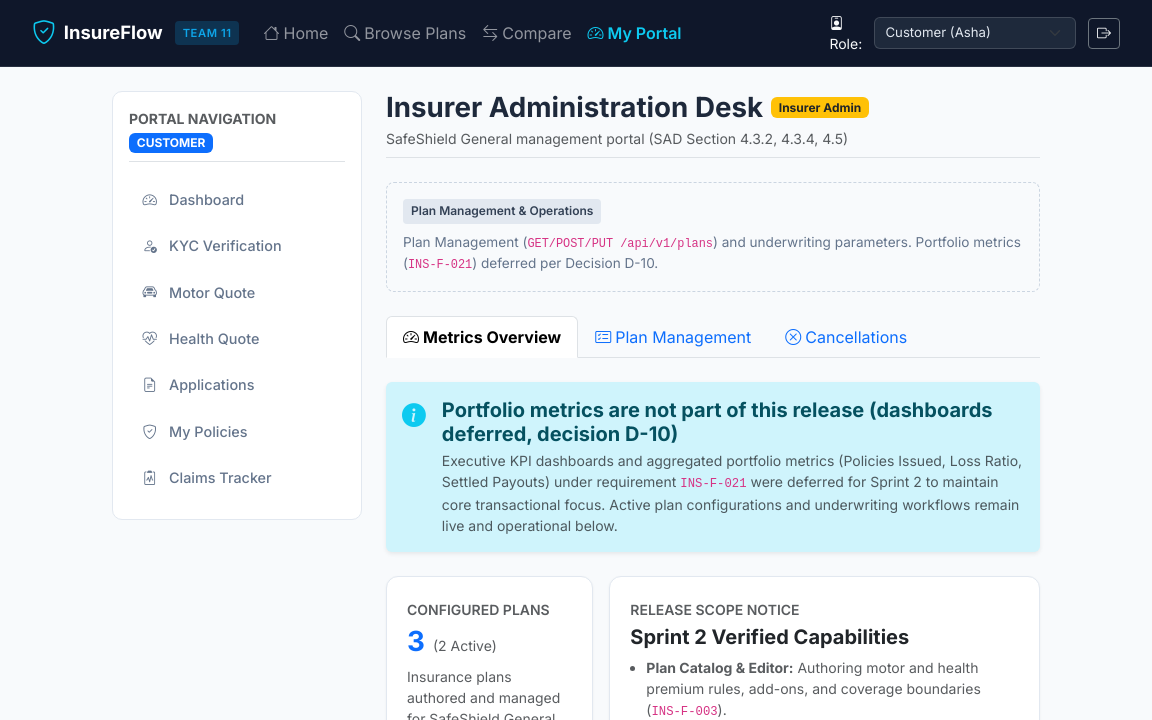
Scenario: InsurerAdminDashboardView (INS-F-003, INS-F-021 Deferral, Issue #168) › switches to Cancellations tab and renders empty cancellation queue notice without fake data
Expected: the heading "3" is shown, [407,625,425,658]
// Click on Cancellations tab
Click the button with test id "tab-cancellations": (846, 337) [768,316,924,358]
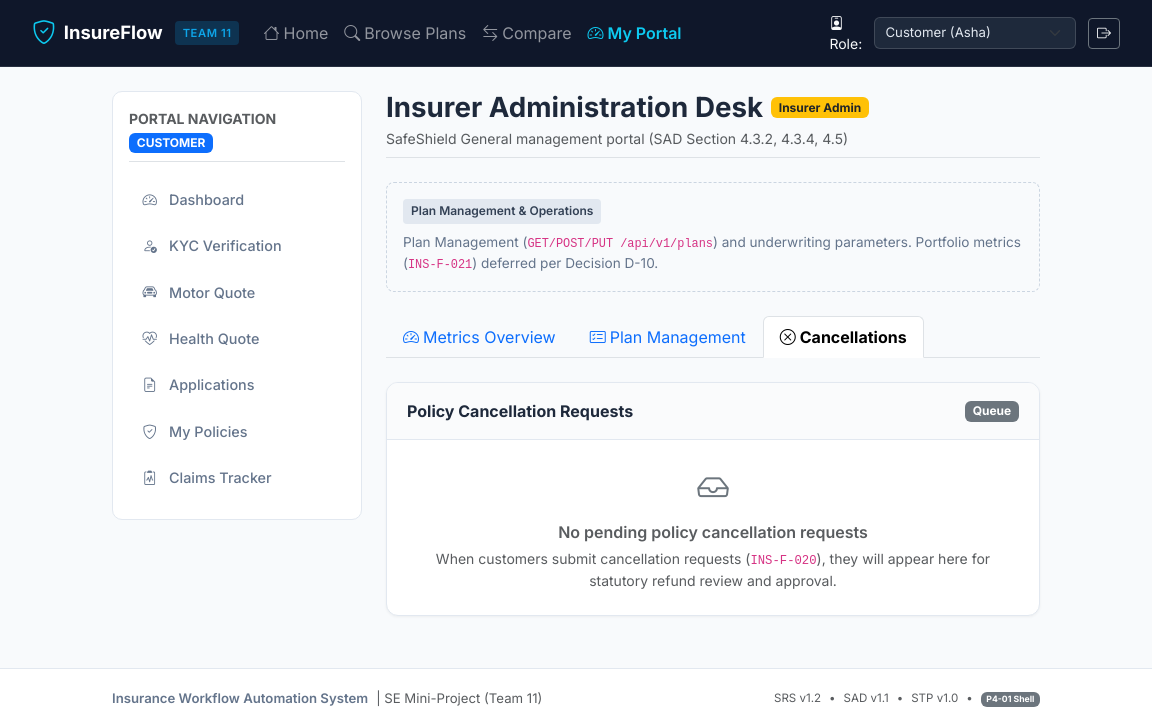
Result: the text "No pending policy cancellation requests" is shown at [558,522,868,542]
